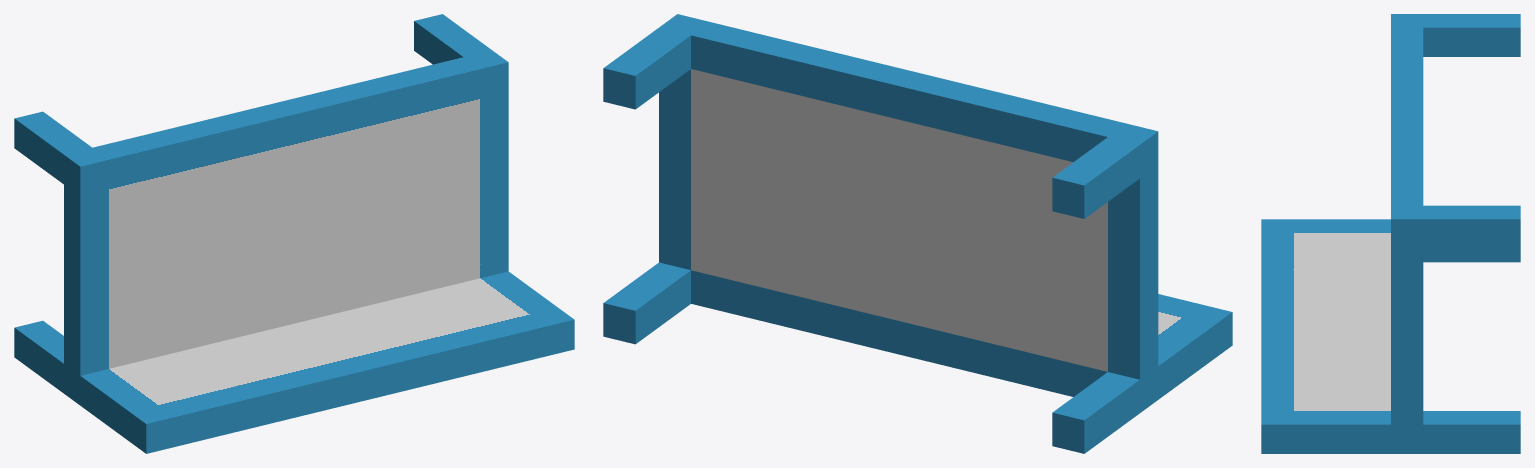
The model's file is bench.obj.
The picture shows the model from 3 angles, left to right: view 1: azimuth 30°, elevation 25°; view 2: azimuth 150°, elevation 25°; view 3: azimuth 270°, elevation 25°; orthographic projection. The views are drawn at different scales.
Parts seen in each view (by area): view 1: Model; view 2: Model; view 3: Model.
Boxes of the visible parts, x1,y1,x2,y2 form: Model: [14, 14, 574, 453]; Model: [603, 14, 1232, 453]; Model: [1261, 14, 1520, 453].
Size of the model in its own units: 1.5 by 0.8 by 0.8.
